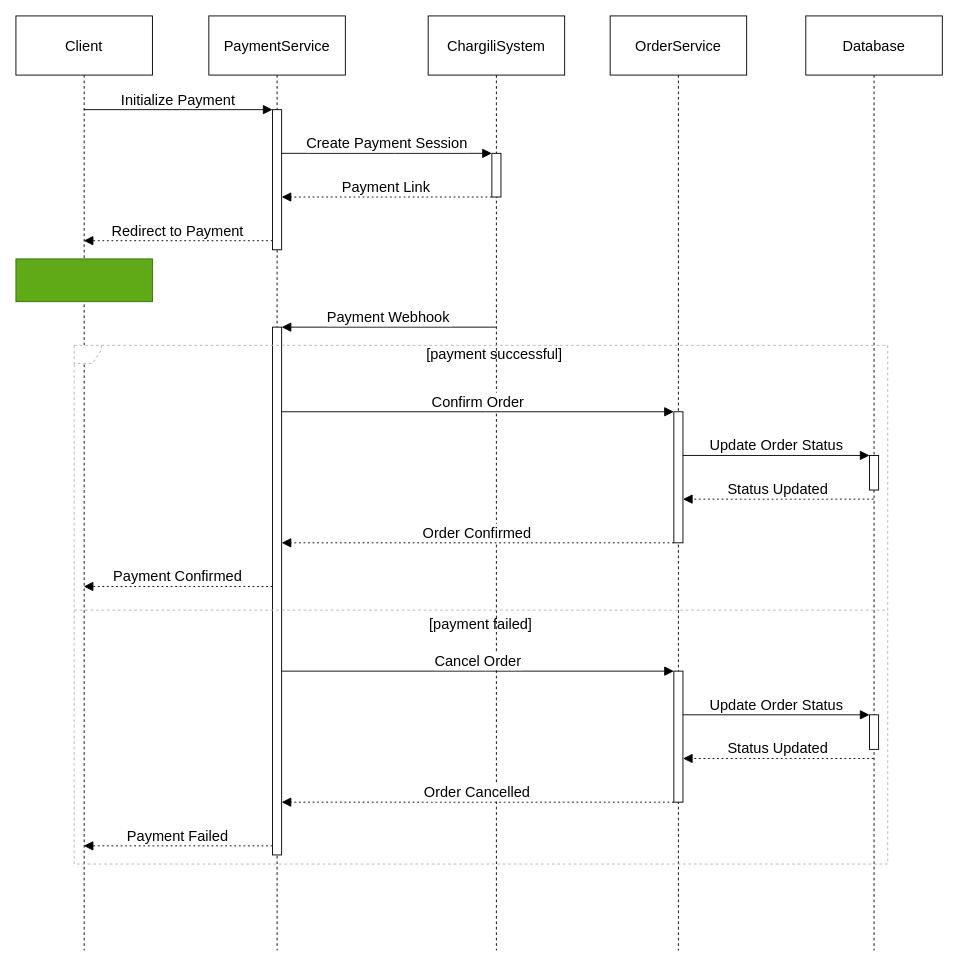
This 958x966 diagram has some shape labels left out. The shapes that lost their labels are listed below. From the top down, each one's box as (x1, y1, x2, y2) in pixels, then its label:
(15, 258, 152, 302): Customer pays
(73, 344, 888, 864): alt
